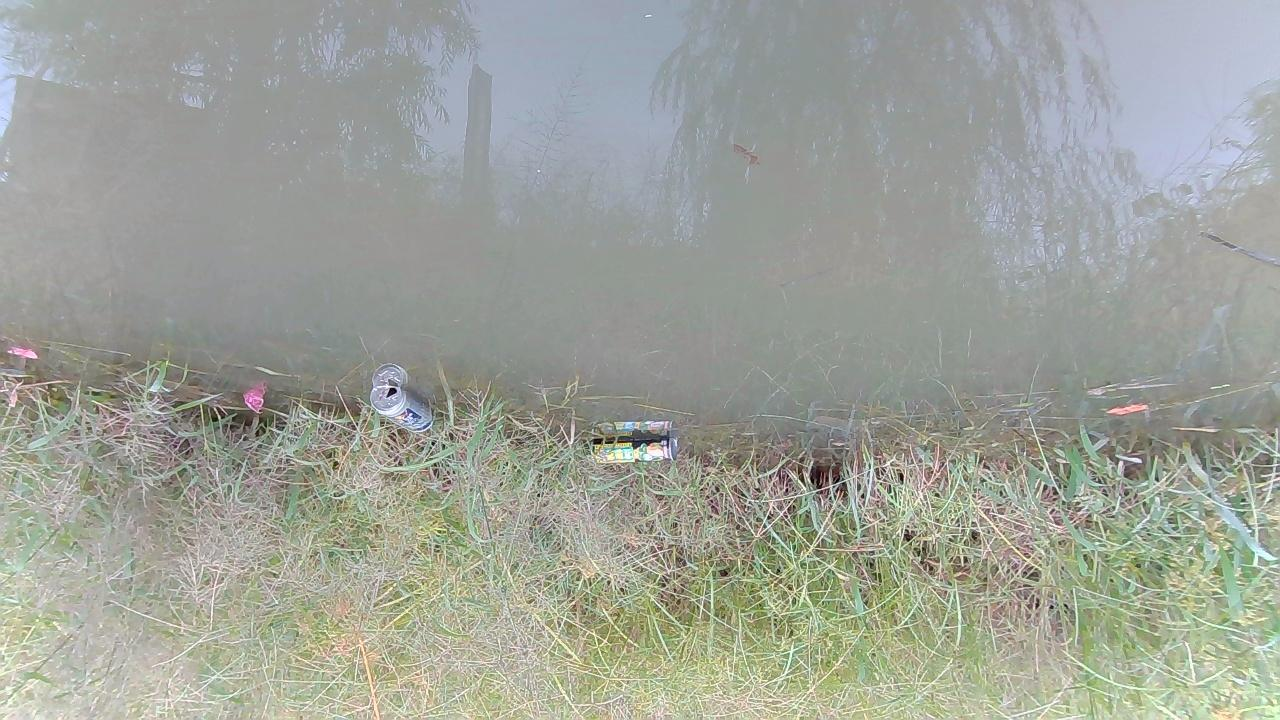Metal: (368, 384, 436, 434), (589, 434, 681, 466)
